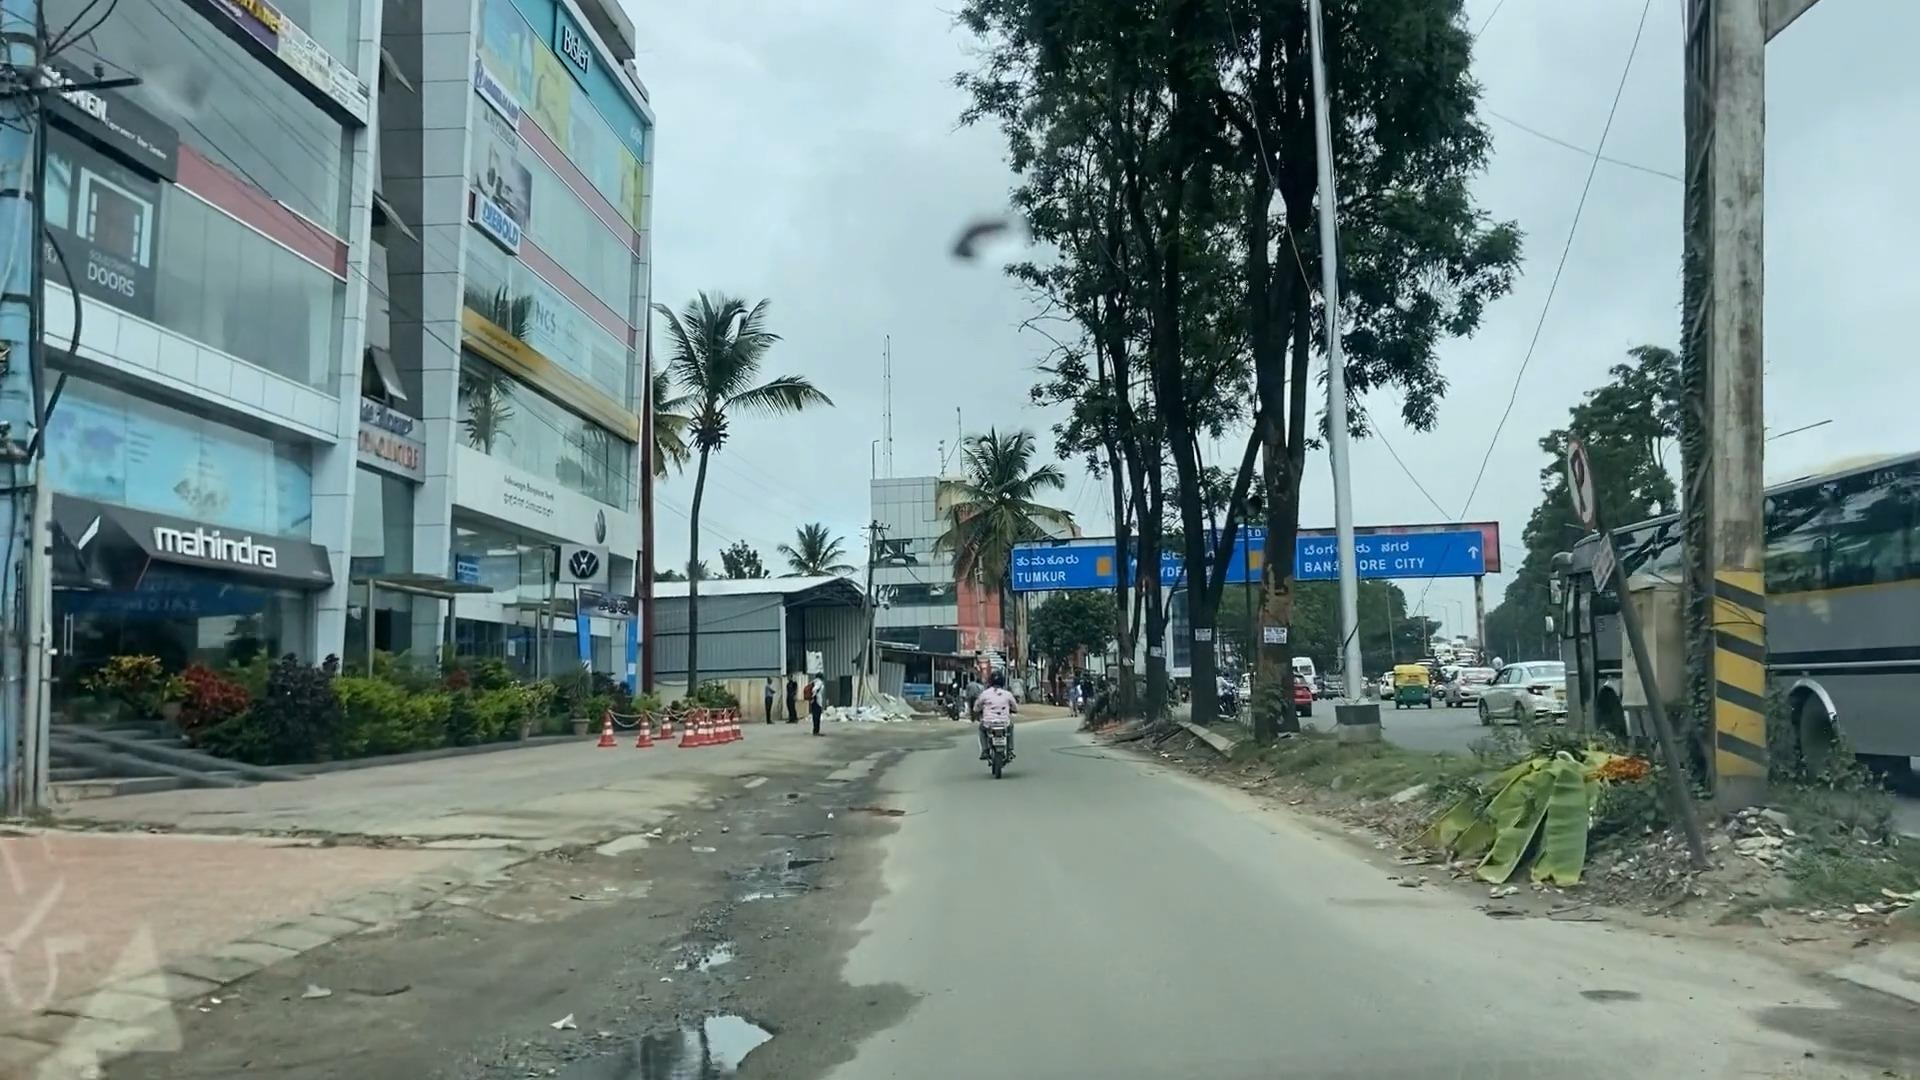RoadDamages: (517, 953, 787, 1080), (624, 840, 808, 960)
